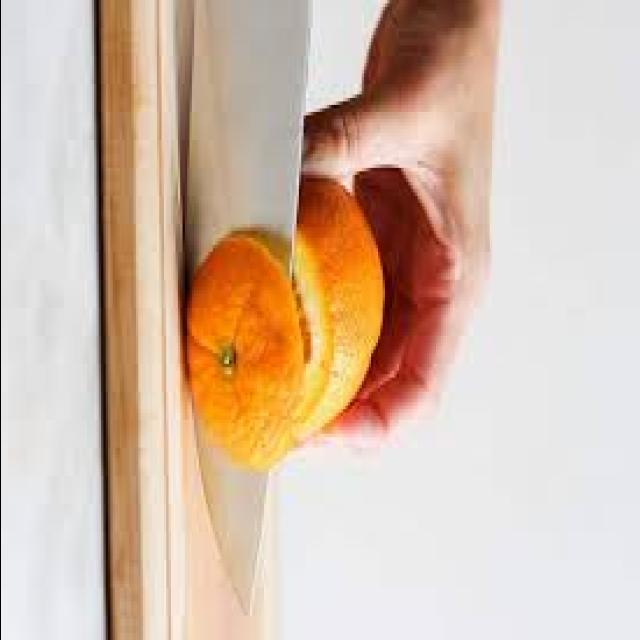orange: (188, 181, 390, 515)
